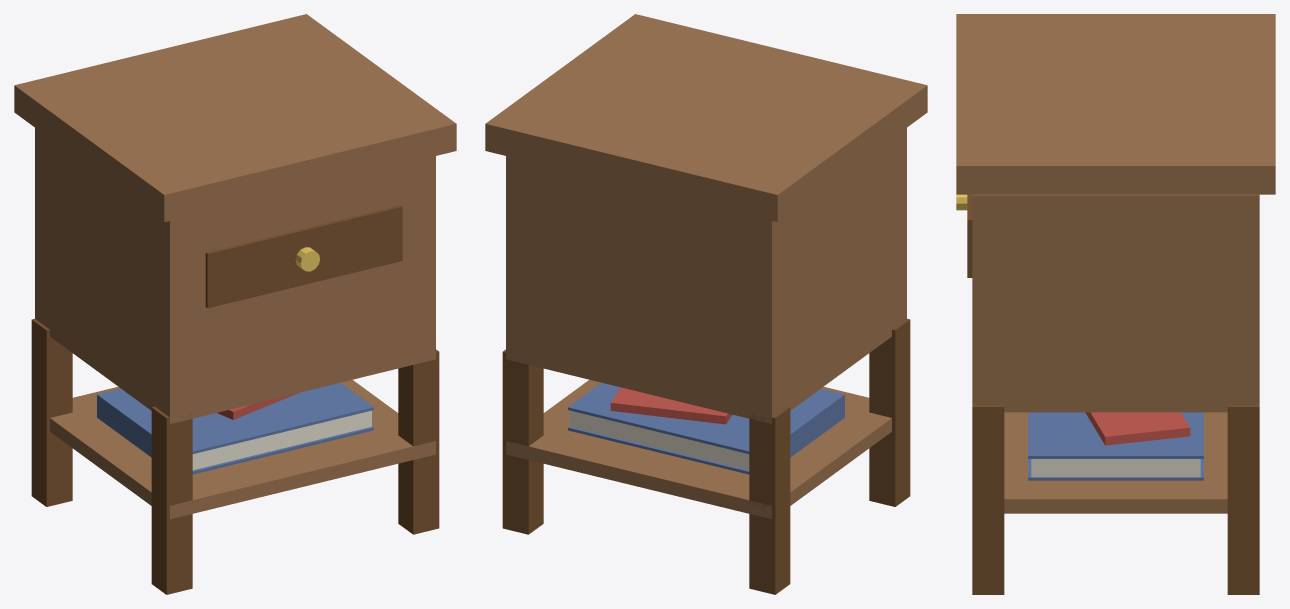
The model's file is phone_table.glb.
The picture shows the model from 3 angles, left to right: view 1: azimuth 30°, elevation 25°; view 2: azimuth 150°, elevation 25°; view 3: azimuth 270°, elevation 25°; orthographic projection. The views are drawn at different scales.
Parts seen in each view (by area): view 1: PhoneTable; view 2: PhoneTable; view 3: PhoneTable.
Part boxes in pixels (<box>): PhoneTable: <box>14,14,456,594</box>; PhoneTable: <box>485,14,927,594</box>; PhoneTable: <box>956,14,1275,594</box>.
Size of the model in its own units: 0.45 by 0.6 by 0.4.
